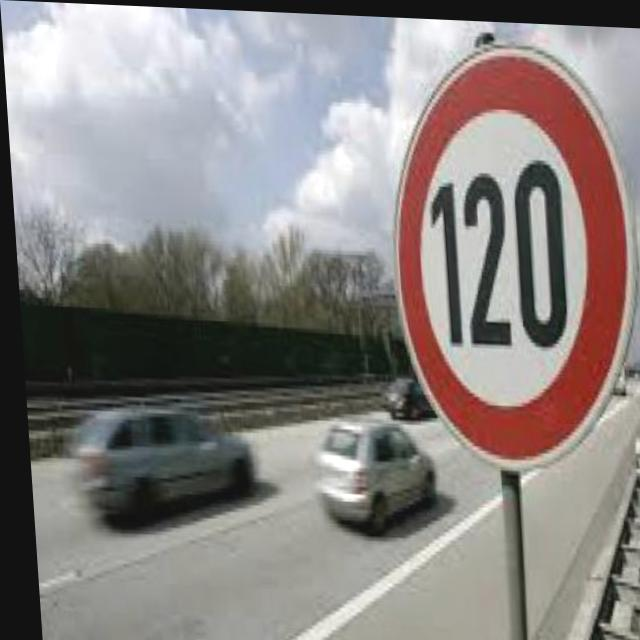limit120: (362, 27, 640, 478)
